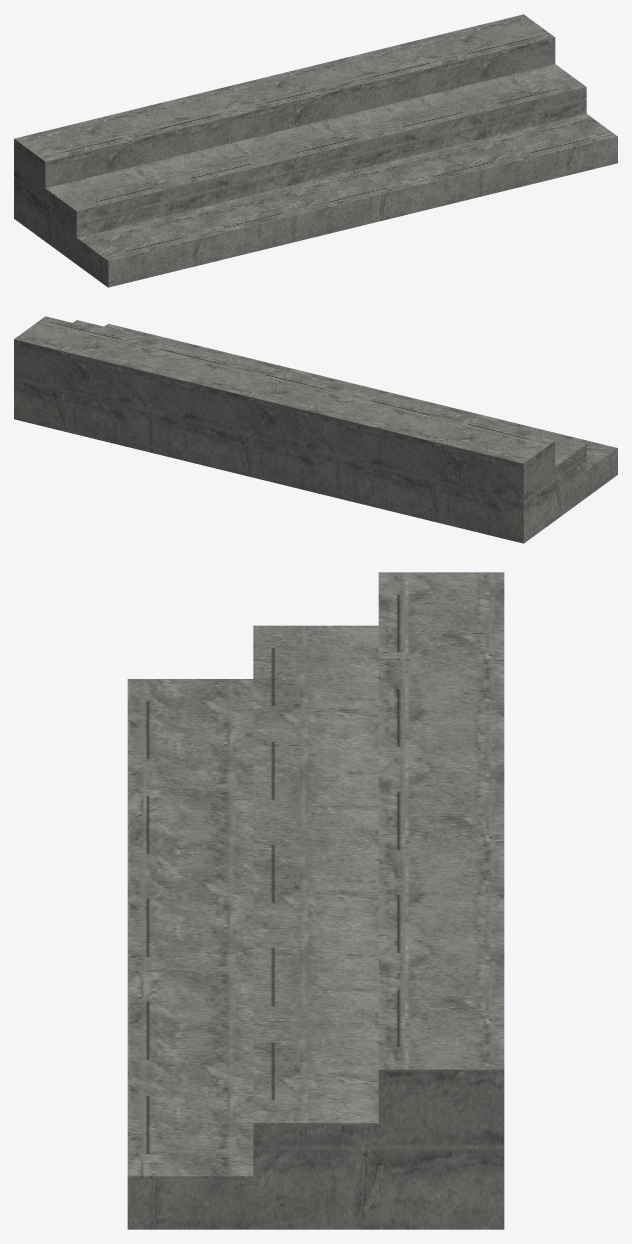
Rendered from StairFlight_LOD0.fbx.
3 views of the same model, one above another, from view 1: azimuth 30°, elevation 25°; view 2: azimuth 150°, elevation 25°; view 3: azimuth 270°, elevation 25° (orthographic). The views are drawn at different scales.
Parts seen in each view (by area): view 1: StairFlight; view 2: StairFlight; view 3: StairFlight.
Part boxes in pixels (x1=…): StairFlight: x1=14, y1=14, x2=617, y2=287; StairFlight: x1=14, y1=316, x2=617, y2=543; StairFlight: x1=127, y1=572, x2=504, y2=1229.
Bounding box in the file's own units: 3 × 0.45 × 0.96.
Materials: 1 (1 with a texture image).
